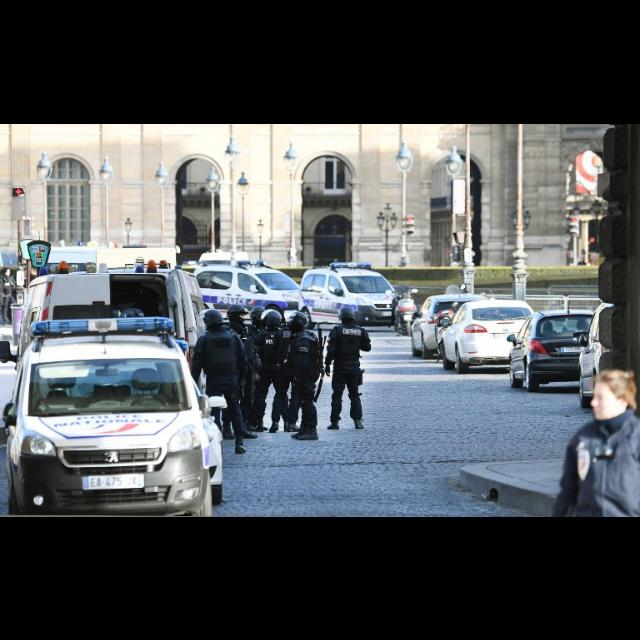head: (590, 368, 632, 420), (266, 310, 284, 330), (229, 306, 247, 324), (204, 312, 223, 328), (253, 308, 267, 328), (294, 312, 308, 328), (296, 314, 308, 326), (342, 310, 354, 322), (30, 266, 40, 276), (3, 268, 11, 276)
person: (182, 308, 250, 454), (246, 310, 302, 434), (324, 306, 374, 430), (279, 311, 325, 441), (220, 303, 260, 441), (268, 311, 310, 435), (242, 305, 270, 437), (25, 264, 43, 324), (0, 266, 18, 326)
